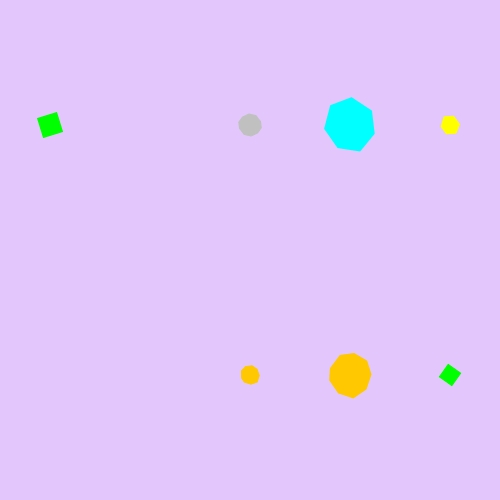decagon: (234, 110, 267, 140)
heptagon: (320, 96, 380, 154)
hexagon: (435, 112, 465, 138)
nonagon: (324, 350, 376, 400), (236, 361, 265, 389)
quadrilateral: (32, 107, 69, 144), (435, 360, 466, 391)
